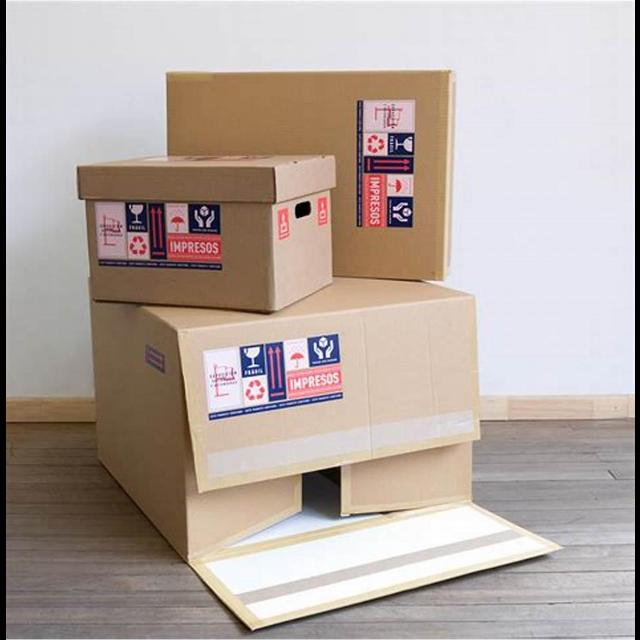papelão: (91, 277, 565, 631), (165, 70, 458, 284), (70, 156, 338, 314)
